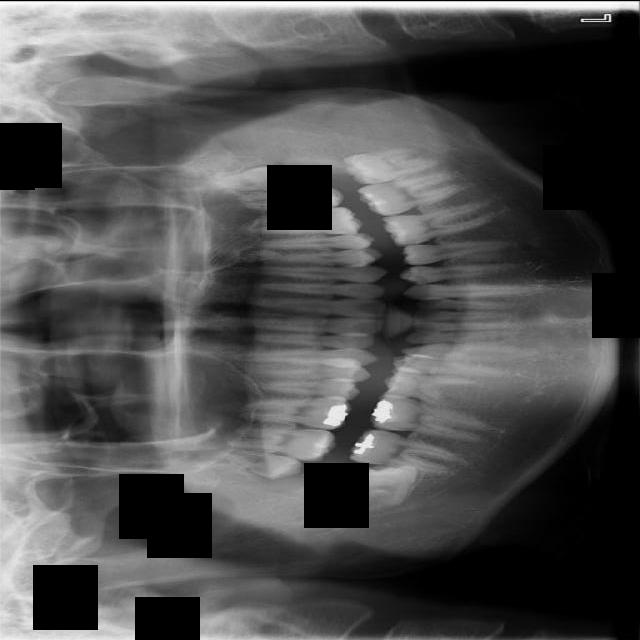3M ESPE Implant: (229, 446, 303, 483)
52: (348, 420, 409, 474), (368, 387, 427, 439), (301, 387, 353, 435)
73: (572, 28, 592, 36)
BioHorizons Implant: (220, 179, 344, 211)
BioLife Implant: (215, 164, 293, 192)
Biomet 3i Implant: (342, 144, 439, 187)
Blue Sky Bio Implant: (356, 170, 464, 220)
Caries: (213, 427, 338, 461)
Implant: (348, 425, 459, 475)
Keystone Dental Implant: (346, 462, 418, 511)
